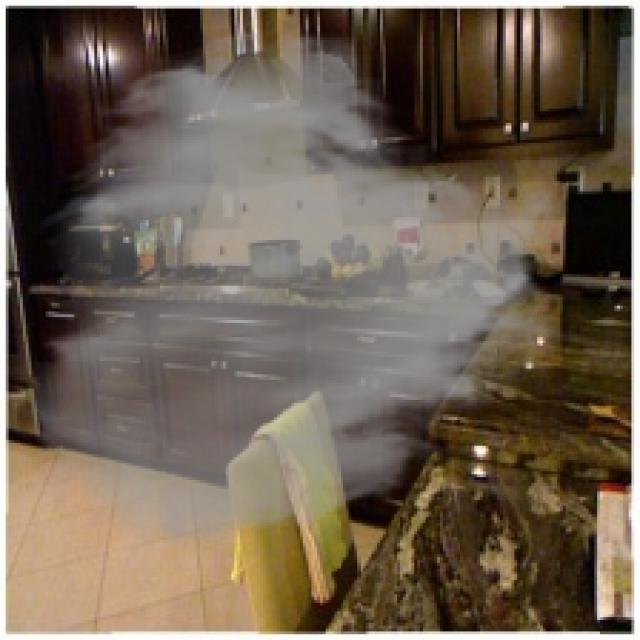smoke: (23, 26, 568, 554)
